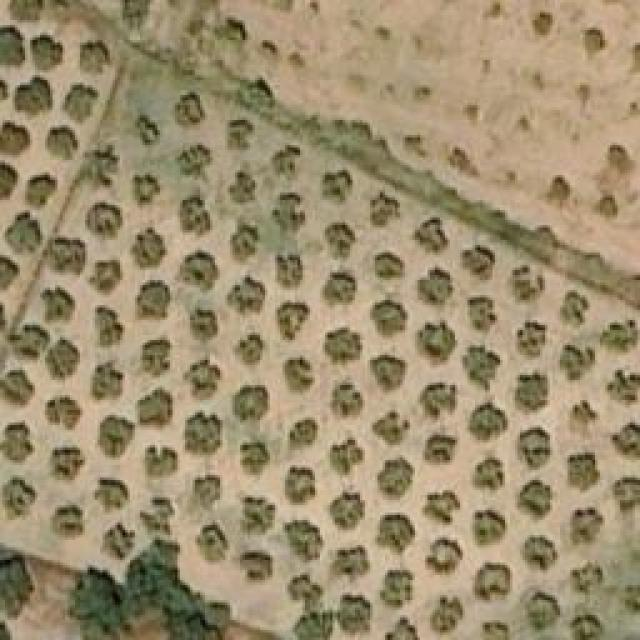Tree: (128, 542, 228, 640), (67, 567, 130, 640), (460, 345, 503, 393), (175, 248, 218, 293), (183, 358, 226, 403), (515, 480, 558, 523), (225, 273, 265, 318), (423, 538, 463, 583), (45, 238, 90, 278), (13, 78, 53, 121), (285, 520, 325, 563), (373, 513, 416, 553), (97, 415, 135, 460), (185, 410, 223, 455), (377, 458, 415, 503), (130, 228, 168, 271), (420, 323, 458, 366), (515, 428, 553, 471), (470, 400, 508, 443), (323, 492, 366, 530), (0, 555, 28, 613), (323, 328, 363, 368), (368, 300, 408, 340), (85, 203, 123, 243), (5, 213, 43, 253), (87, 363, 125, 403), (325, 380, 363, 420), (3, 478, 38, 521), (45, 392, 83, 430), (410, 217, 448, 255), (507, 265, 545, 303), (515, 322, 553, 360), (92, 477, 130, 515), (63, 83, 98, 123), (138, 385, 173, 425), (418, 265, 453, 305), (330, 545, 370, 580), (420, 490, 460, 525), (475, 560, 510, 600), (380, 570, 415, 610), (513, 375, 548, 415), (560, 343, 595, 383), (330, 438, 365, 478), (0, 422, 32, 465), (40, 285, 75, 323), (235, 385, 270, 423), (195, 525, 230, 563), (568, 452, 603, 490), (520, 535, 558, 570), (470, 457, 505, 495), (605, 370, 640, 408), (525, 592, 560, 630), (273, 193, 306, 233), (278, 300, 311, 340), (283, 355, 316, 395), (285, 468, 318, 508), (243, 498, 276, 538), (418, 383, 458, 416), (90, 255, 121, 296), (142, 333, 170, 378), (138, 280, 171, 318), (570, 507, 603, 545), (430, 597, 463, 635), (338, 595, 371, 633), (140, 495, 173, 533), (45, 125, 80, 160), (50, 448, 85, 483), (370, 355, 405, 390), (603, 320, 638, 355), (370, 188, 400, 228), (78, 40, 108, 80), (143, 445, 178, 478), (423, 433, 458, 466), (320, 170, 353, 205), (100, 523, 133, 558), (460, 245, 495, 278), (180, 197, 210, 235), (230, 225, 260, 263), (560, 290, 590, 328), (372, 413, 410, 443), (0, 120, 32, 155), (25, 173, 58, 206), (450, 148, 483, 181), (538, 175, 571, 208), (325, 273, 358, 306), (175, 143, 208, 176), (97, 307, 125, 345), (240, 332, 268, 370), (240, 435, 268, 473), (295, 612, 333, 640), (612, 422, 640, 460), (325, 223, 355, 258), (475, 510, 505, 545), (53, 505, 83, 538), (240, 553, 273, 583), (573, 563, 603, 596), (85, 150, 115, 183), (272, 145, 300, 180), (275, 253, 303, 288), (612, 478, 640, 513), (10, 330, 45, 358), (467, 298, 495, 333), (227, 170, 255, 205), (0, 27, 25, 65), (30, 35, 63, 63), (192, 475, 220, 508), (47, 340, 75, 373), (243, 78, 273, 108), (122, 0, 150, 30), (190, 308, 218, 338), (290, 418, 318, 448), (177, 93, 205, 123), (225, 118, 253, 148), (217, 15, 245, 45), (2, 373, 30, 403), (580, 25, 605, 58), (385, 617, 420, 640), (0, 255, 20, 293), (528, 10, 558, 35), (593, 190, 618, 220), (135, 175, 160, 205), (375, 253, 405, 278), (0, 163, 18, 203), (572, 615, 600, 640), (610, 145, 633, 173), (573, 400, 598, 425), (258, 38, 283, 63), (138, 115, 158, 143), (625, 588, 640, 613)
